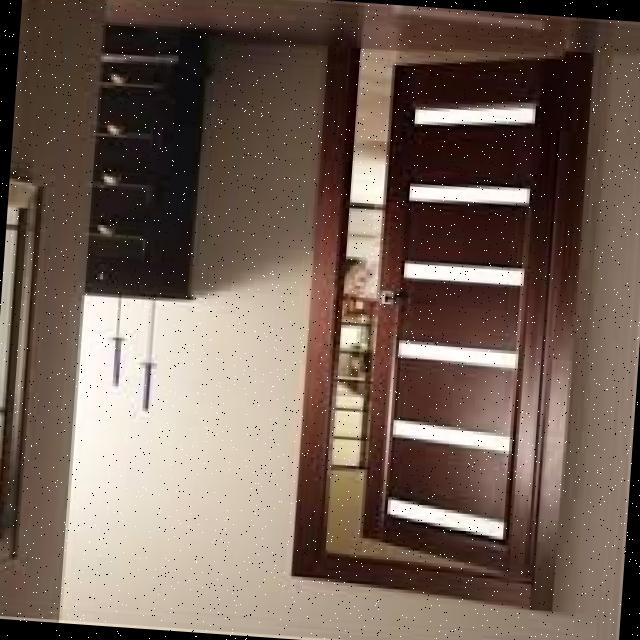Door: (292, 39, 594, 613)
